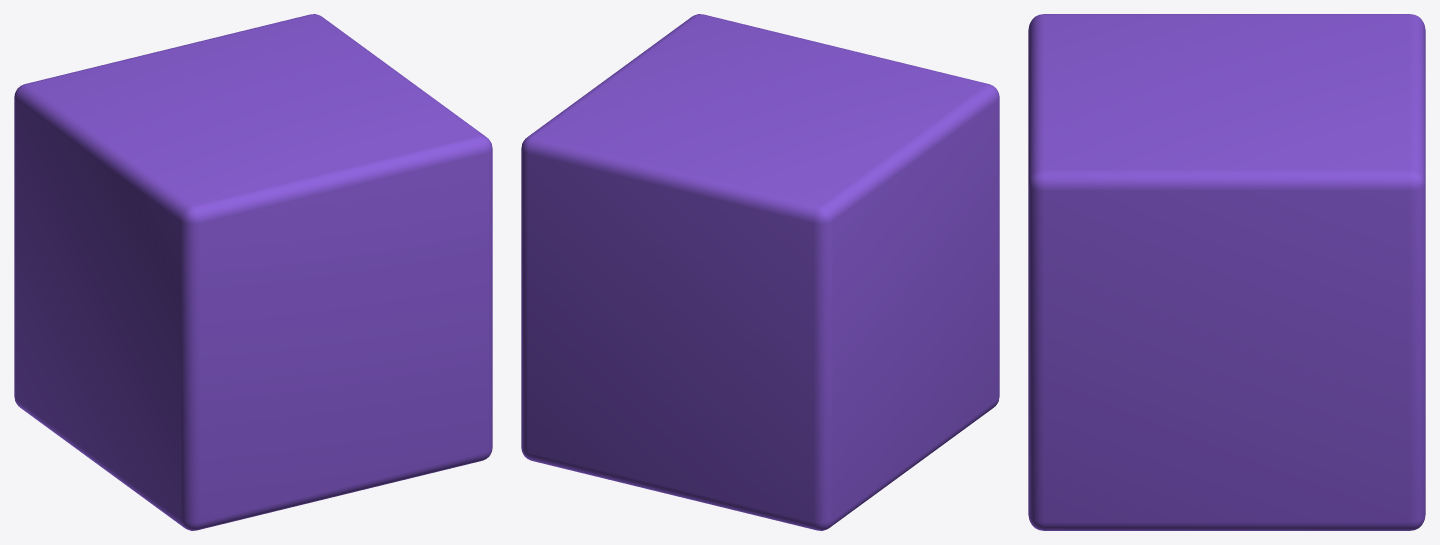
The picture shows the model from 3 angles, left to right: view 1: azimuth 30°, elevation 25°; view 2: azimuth 150°, elevation 25°; view 3: azimuth 270°, elevation 25°; orthographic projection. The views are drawn at different scales.
Visible parts, largest first — view 1: Cube; view 2: Cube; view 3: Cube.
Boxes of the visible parts, left/top/right/bottom form: Cube: left=14, top=14, right=492, bottom=530; Cube: left=521, top=14, right=999, bottom=530; Cube: left=1028, top=14, right=1425, bottom=530.
Bounding box in the file's own units: 0.5 × 0.5 × 0.5.
